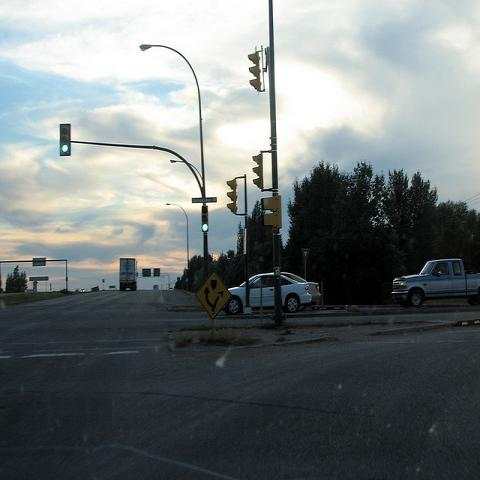car: (224, 274, 310, 313), (281, 272, 321, 312), (153, 284, 158, 290)
truck: (391, 258, 480, 305), (119, 258, 138, 291)
